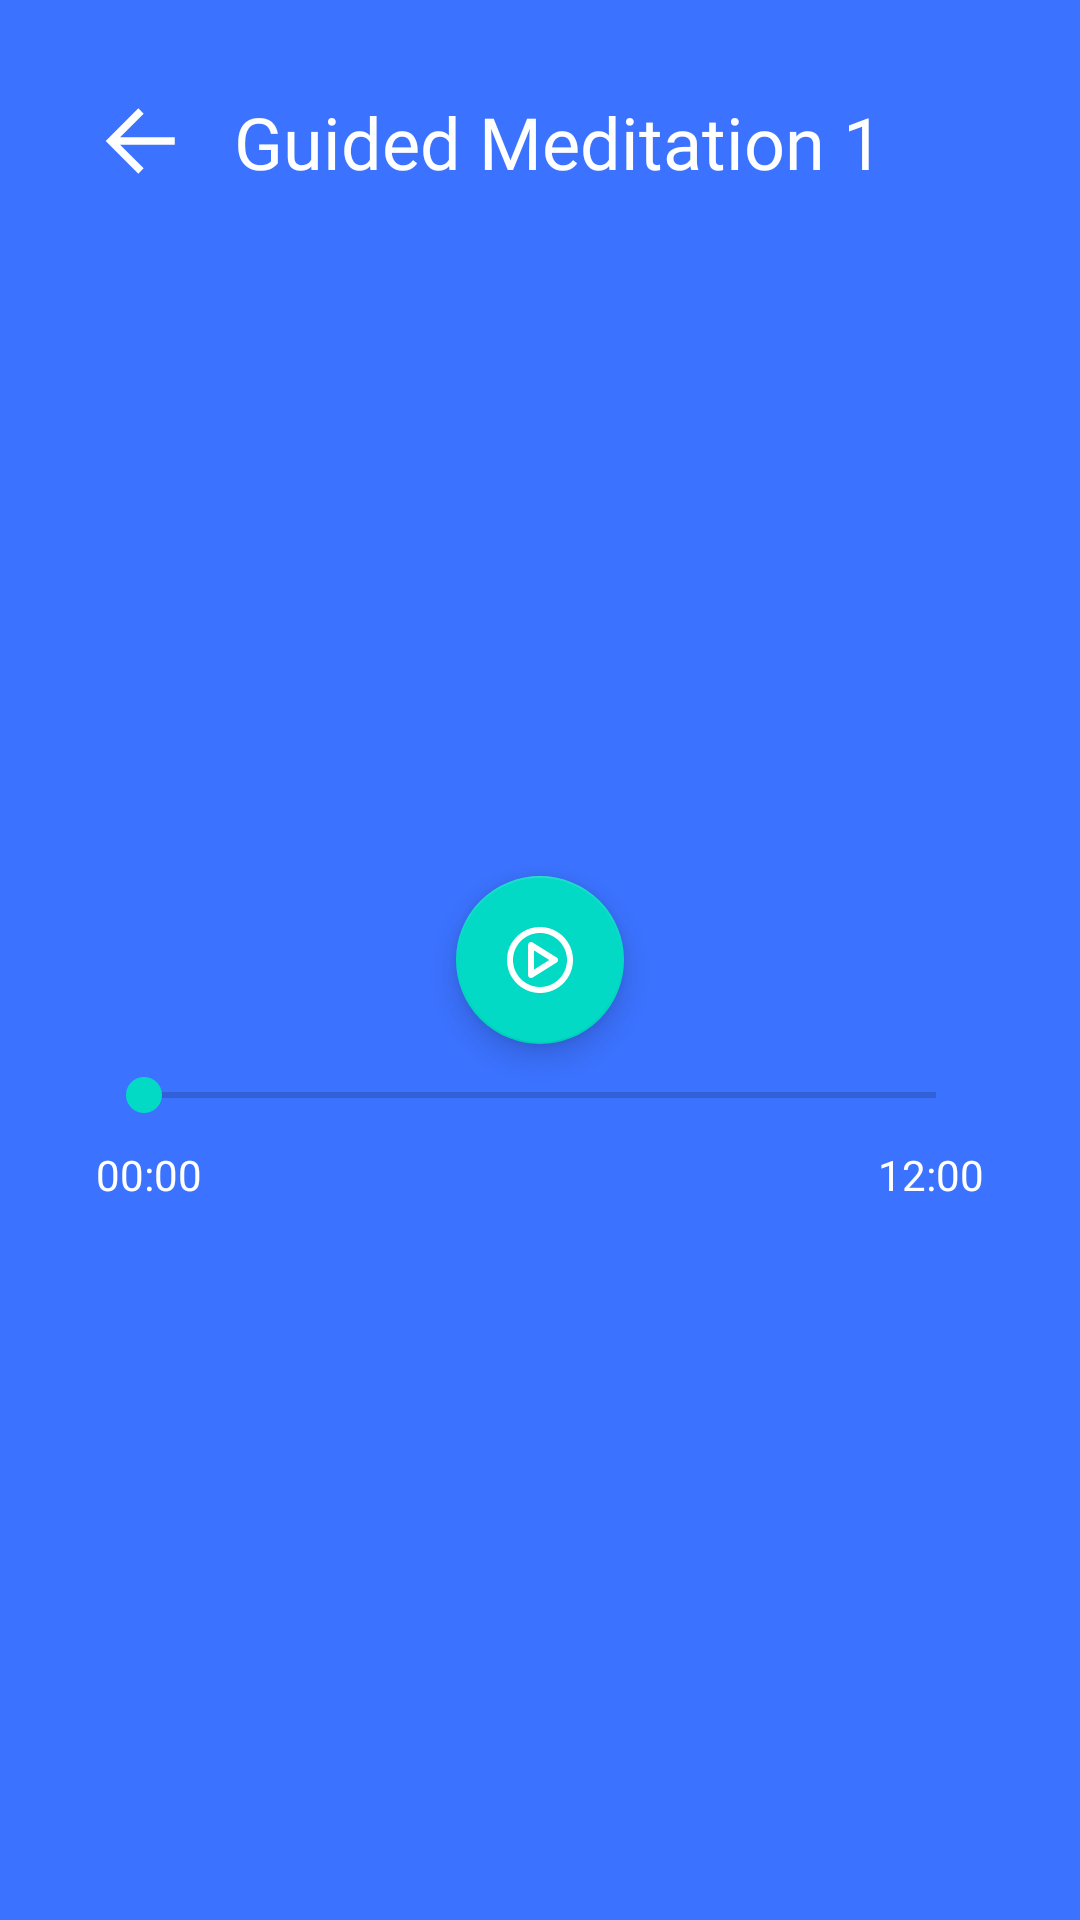

Point at icon controls on the screen. Image size 1080px×1920px, points as (x=x, y=y).
play: (x=540, y=960)
return: (x=140, y=141)
